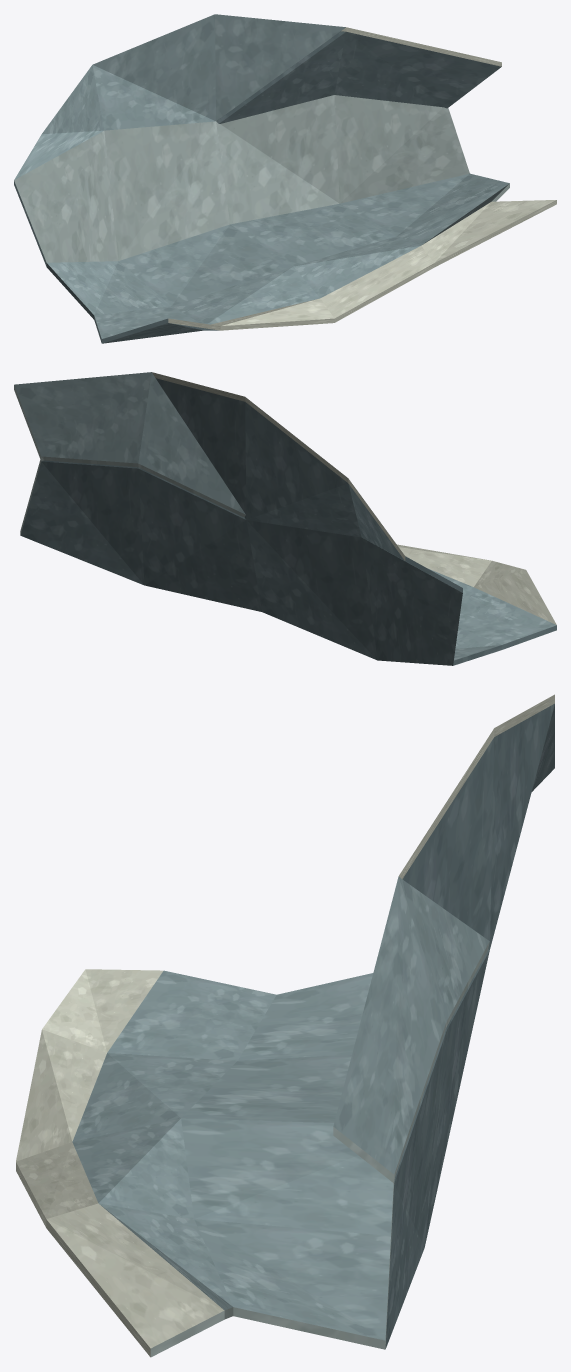
The model's file is debris_duct_bent_corner.glb.
The picture shows the model from 3 angles, top to bottom: view 1: azimuth 30°, elevation 25°; view 2: azimuth 150°, elevation 25°; view 3: azimuth 270°, elevation 25°; orthographic projection. The views are drawn at different scales.
Visible parts, largest first — view 1: Bent Sheet-Metal Duct Corner; view 2: Bent Sheet-Metal Duct Corner; view 3: Bent Sheet-Metal Duct Corner.
Part boxes in pixels (x1=…): Bent Sheet-Metal Duct Corner: x1=14, y1=14, x2=556, y2=343; Bent Sheet-Metal Duct Corner: x1=14, y1=372, x2=556, y2=665; Bent Sheet-Metal Duct Corner: x1=16, y1=694, x2=554, y2=1357.
Bounding box in the file's own units: 0.241 × 0.1133 × 0.124.
1 material, 1 textured.
